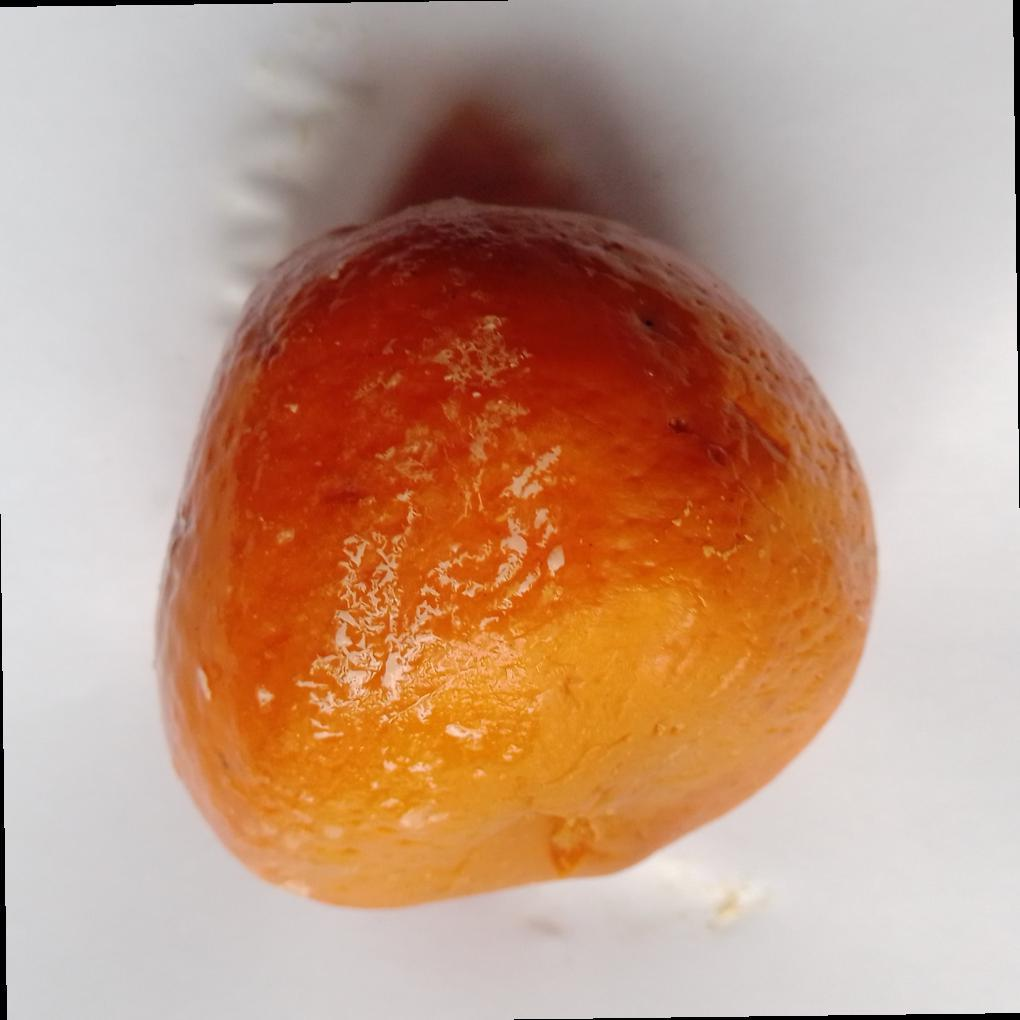FreshOrange: (151, 198, 881, 915)
